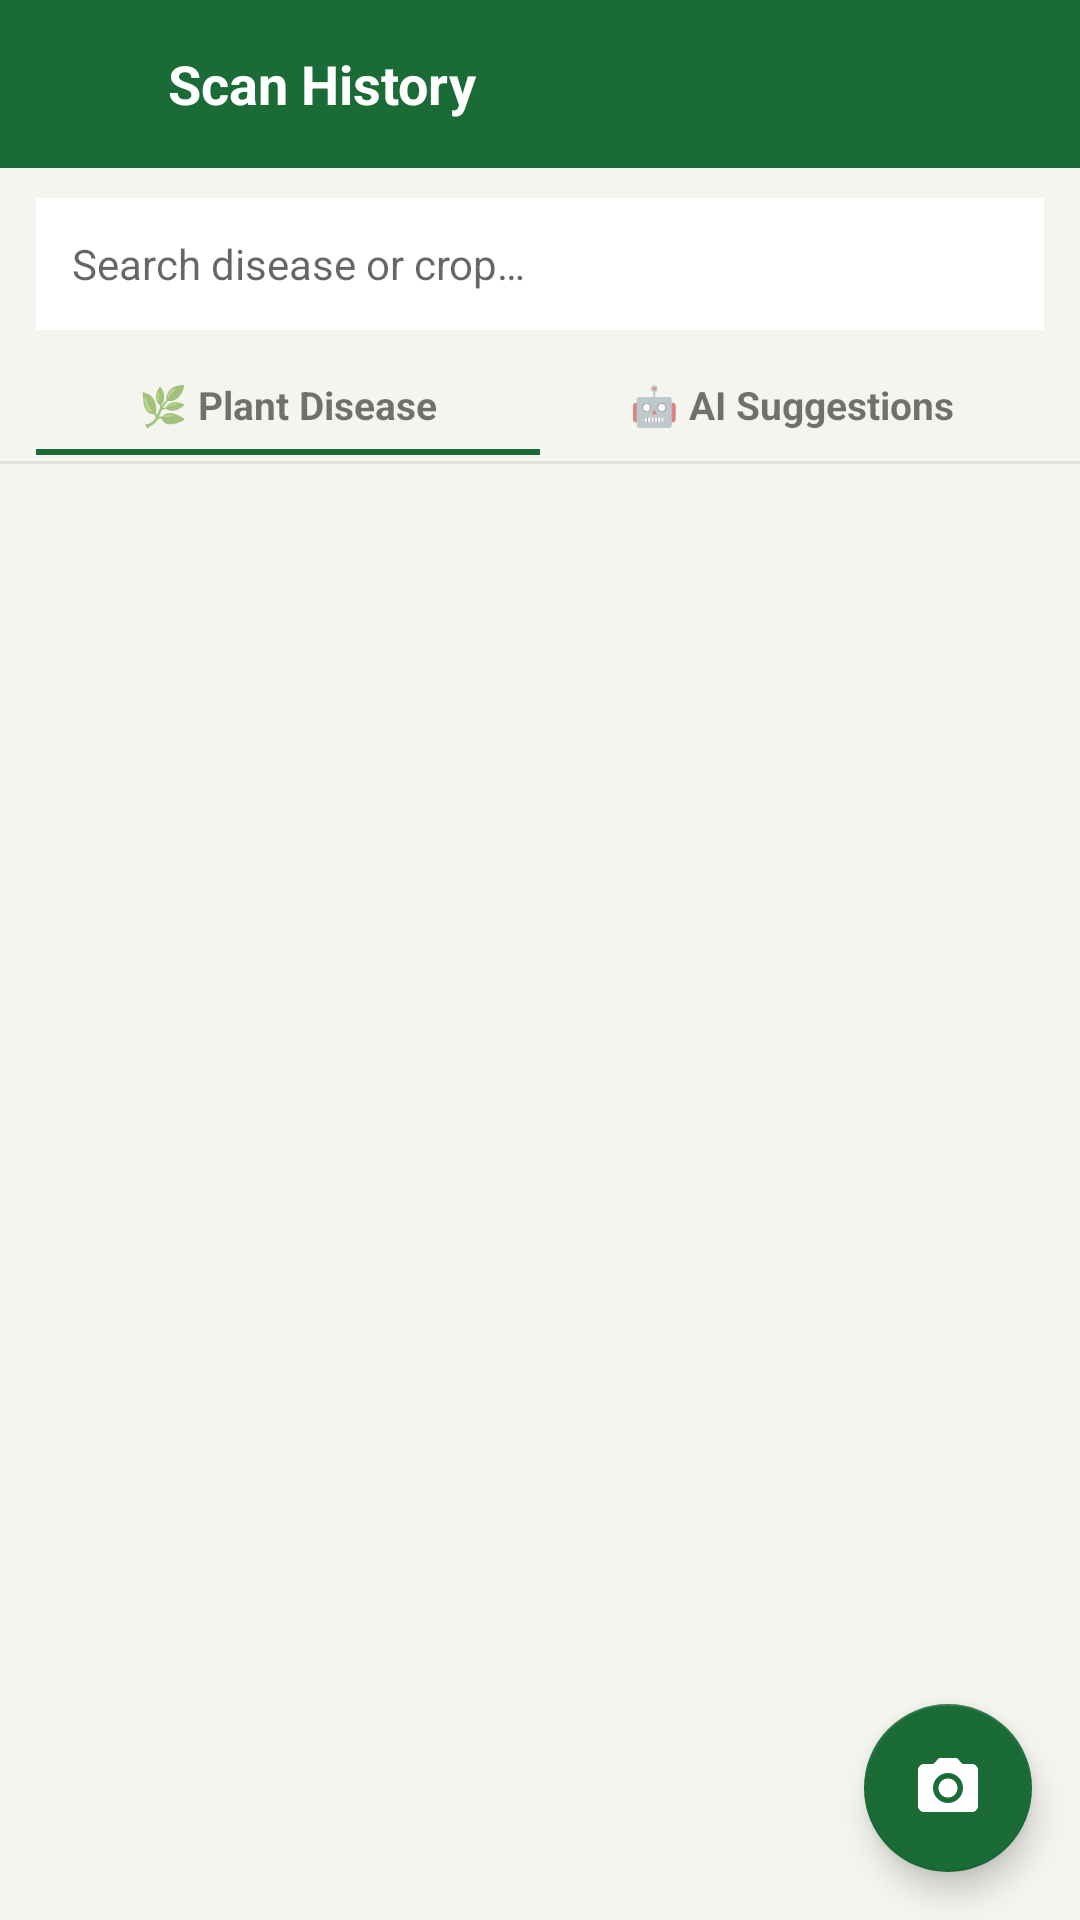

Icons on this 1080 × 1920 Android screen, each with its box as (x1, y1, x2, y2):
camera: (864, 1704, 1032, 1872)
